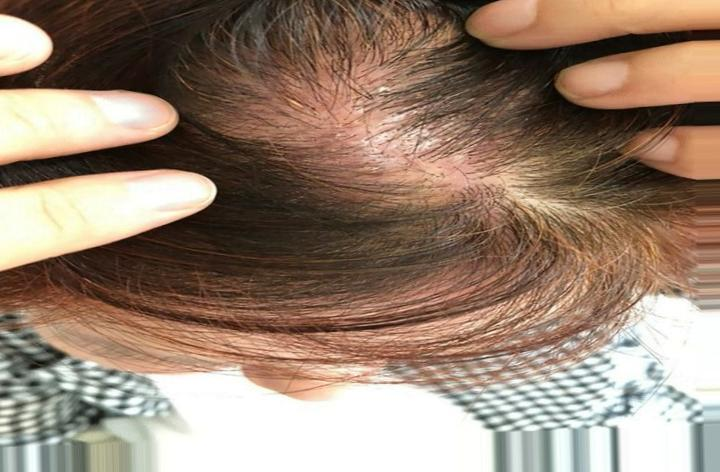Contact Dermatitis: (249, 38, 428, 225)
